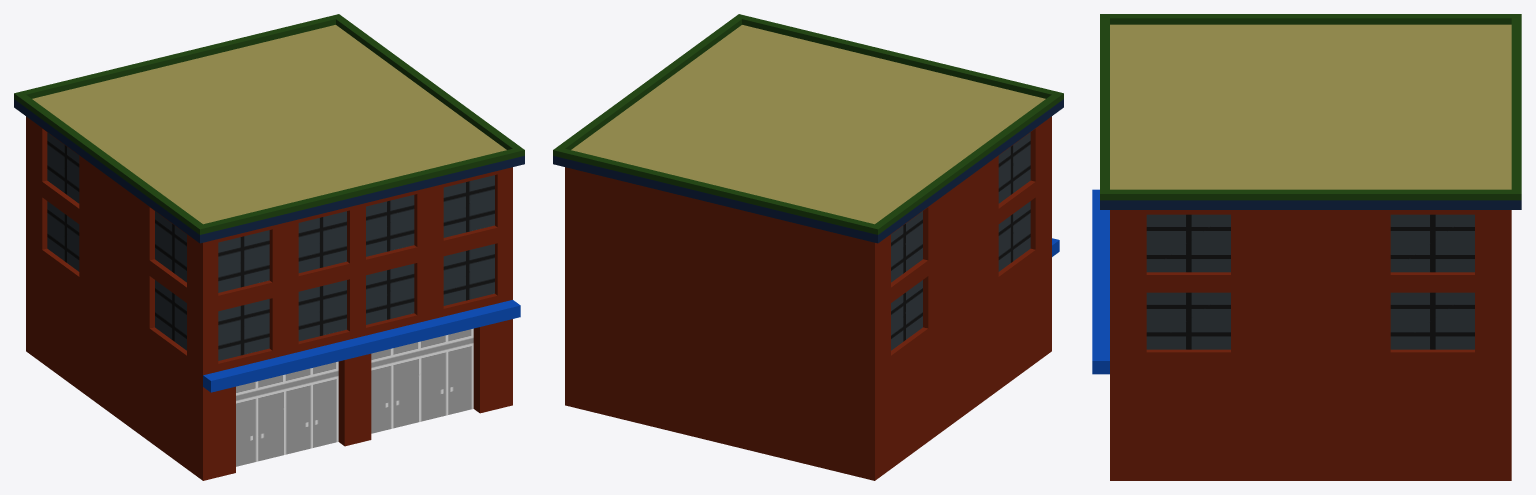
Rendered from building4b.FBX.
3 views of the same model, side by side, from view 1: azimuth 30°, elevation 25°; view 2: azimuth 150°, elevation 25°; view 3: azimuth 270°, elevation 25° (orthographic). The views are drawn at different scales.
Parts seen in each view (by area): view 1: building4b; view 2: building4b; view 3: building4b.
Part boxes in pixels (left/top/right/bottom): building4b: left=14, top=14, right=524, bottom=480; building4b: left=553, top=14, right=1063, bottom=480; building4b: left=1092, top=14, right=1521, bottom=480.
Size of the model in its own units: 21.4 by 16.15 by 21.59.
